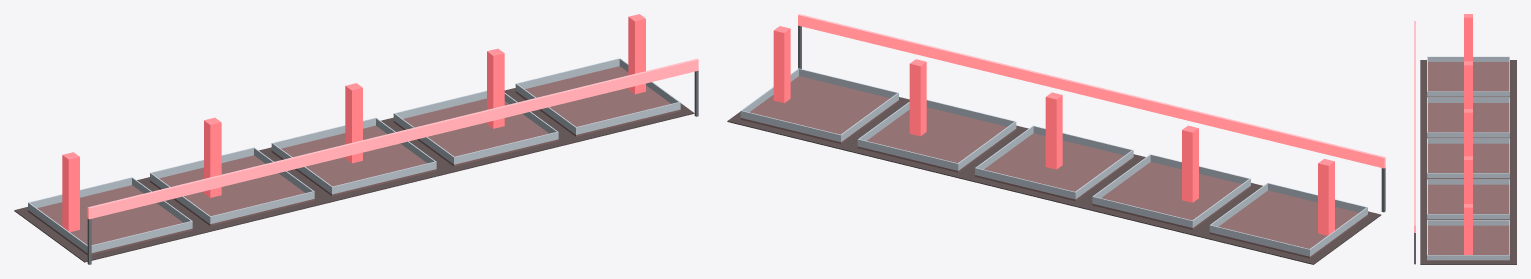
File: pack-water-land-climate.glb
3 views of the same model, side by side, from view 1: azimuth 30°, elevation 25°; view 2: azimuth 150°, elevation 25°; view 3: azimuth 270°, elevation 25° (orthographic). The views are drawn at different scales.
Visible parts, largest first — view 1: Water, Land & Climate; view 2: Water, Land & Climate; view 3: Water, Land & Climate.
Boxes of the visible parts, x1,y1,x2,y2 form: Water, Land & Climate: (14,14,698,264); Water, Land & Climate: (727,14,1385,264); Water, Land & Climate: (1414,14,1516,264).
Size of the model in its own units: 70 by 8.3 by 14.9.
